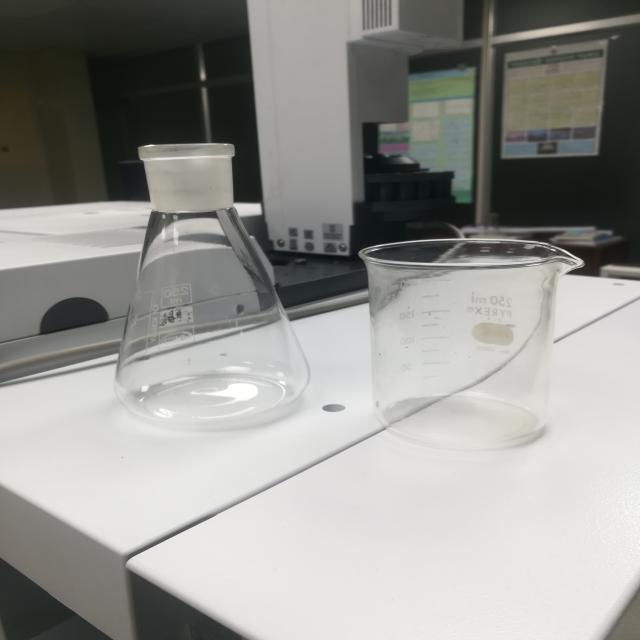Beaker: (340, 218, 612, 457)
Conical_Flask: (88, 106, 326, 437)
